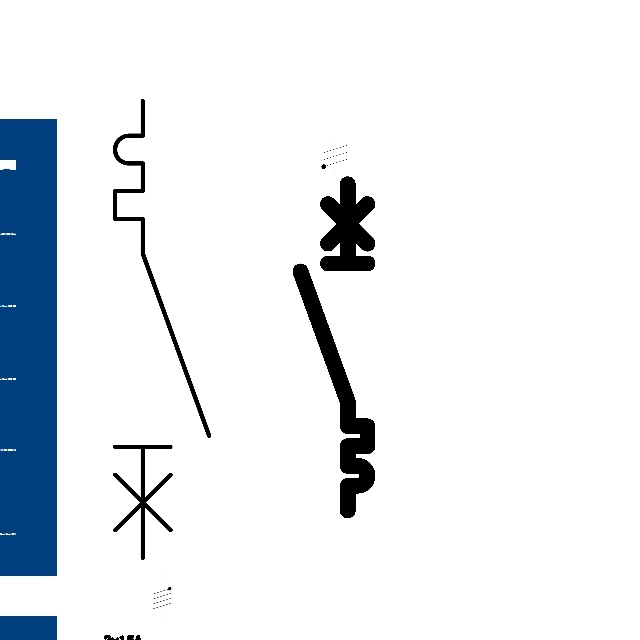interruptor_termomagnetico: (103, 89, 220, 570), (292, 175, 376, 518)
